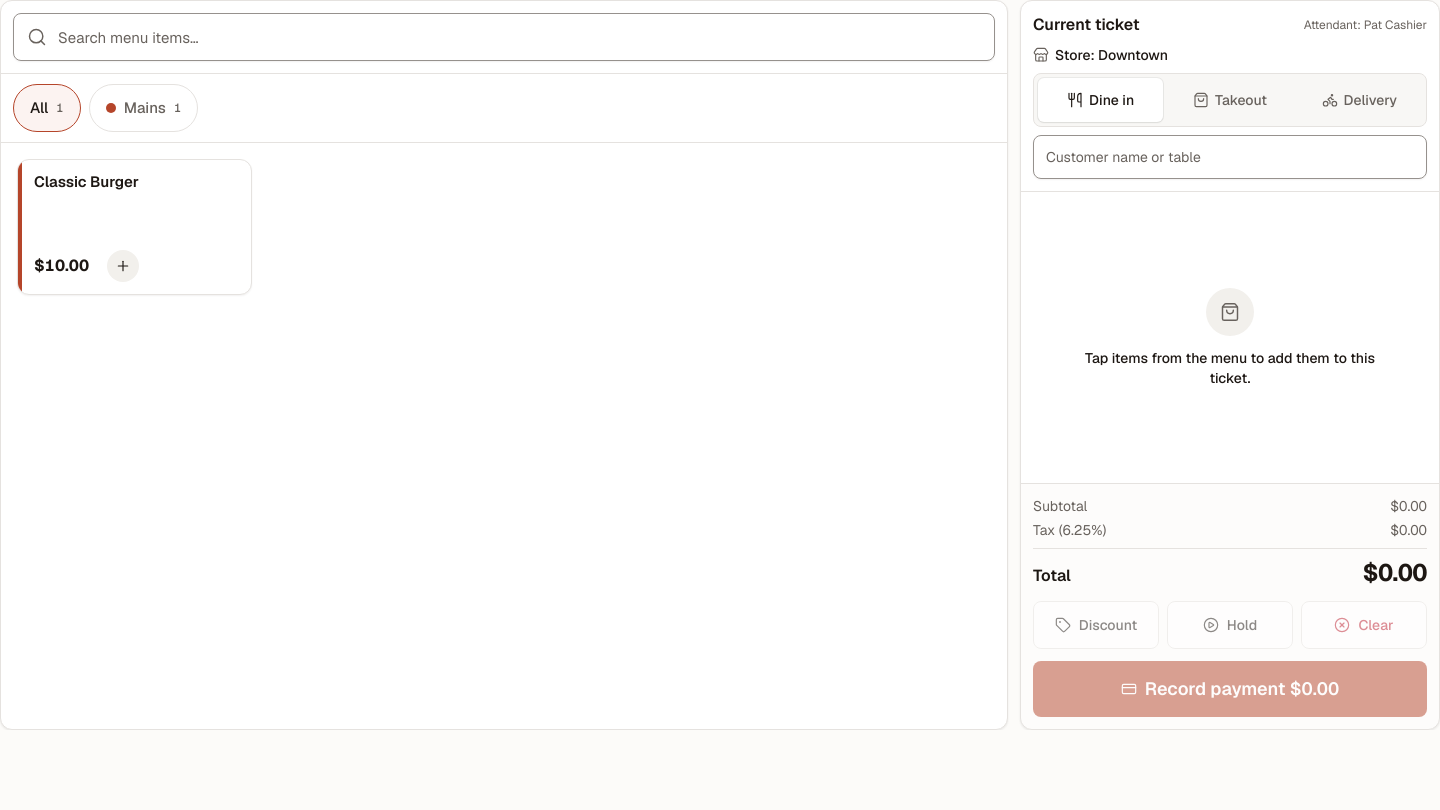
Test case: manual resolution of a pending sale (0032) › without the permission: no way to close it, only an explanation
Click the button with aria-label "Add Classic Burger,": (134, 227) [17,159,252,295]
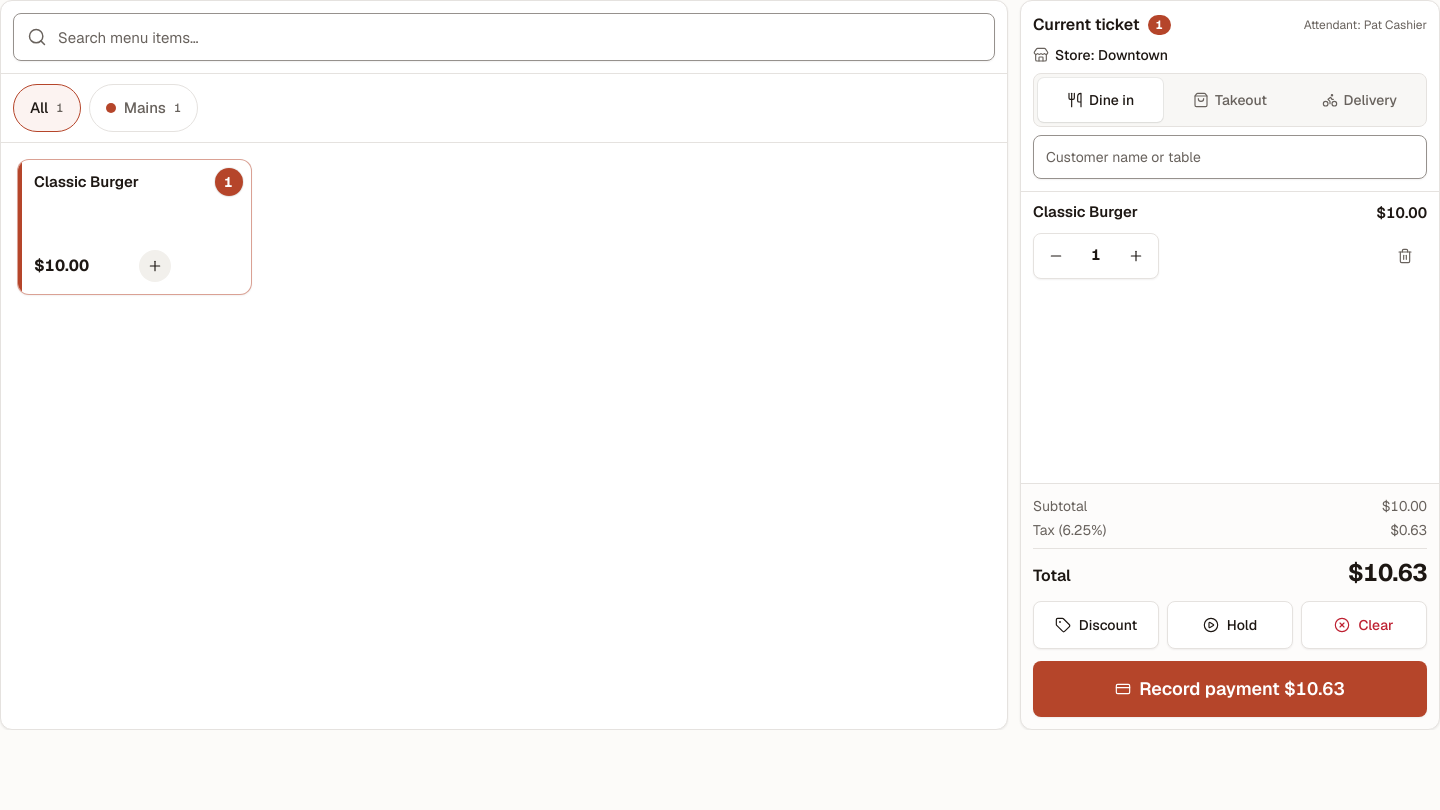
Click the button "Record payment $10.63": (1230, 689) [1033,661,1427,717]
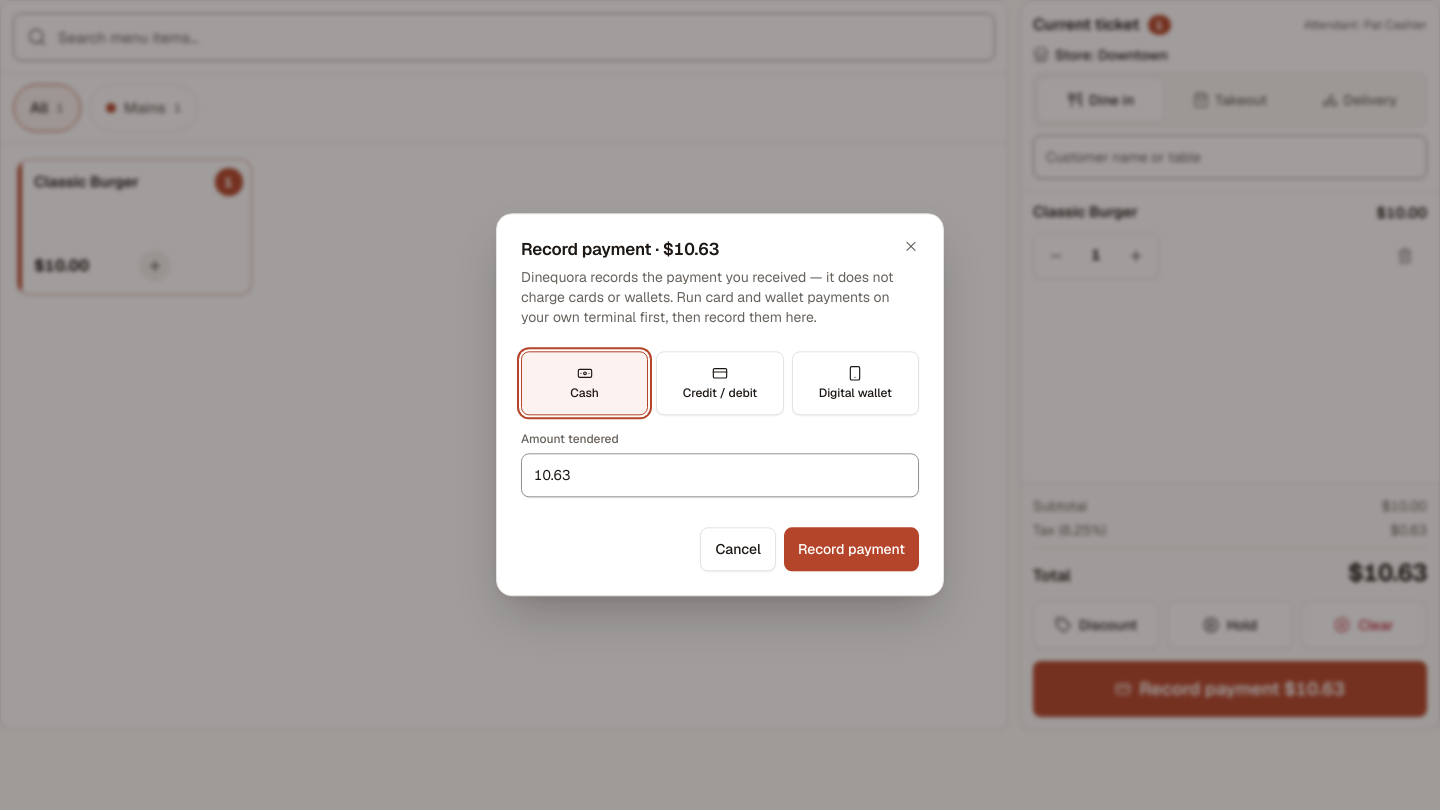
Click the button "Record payment": (852, 550) [784,528,919,572]
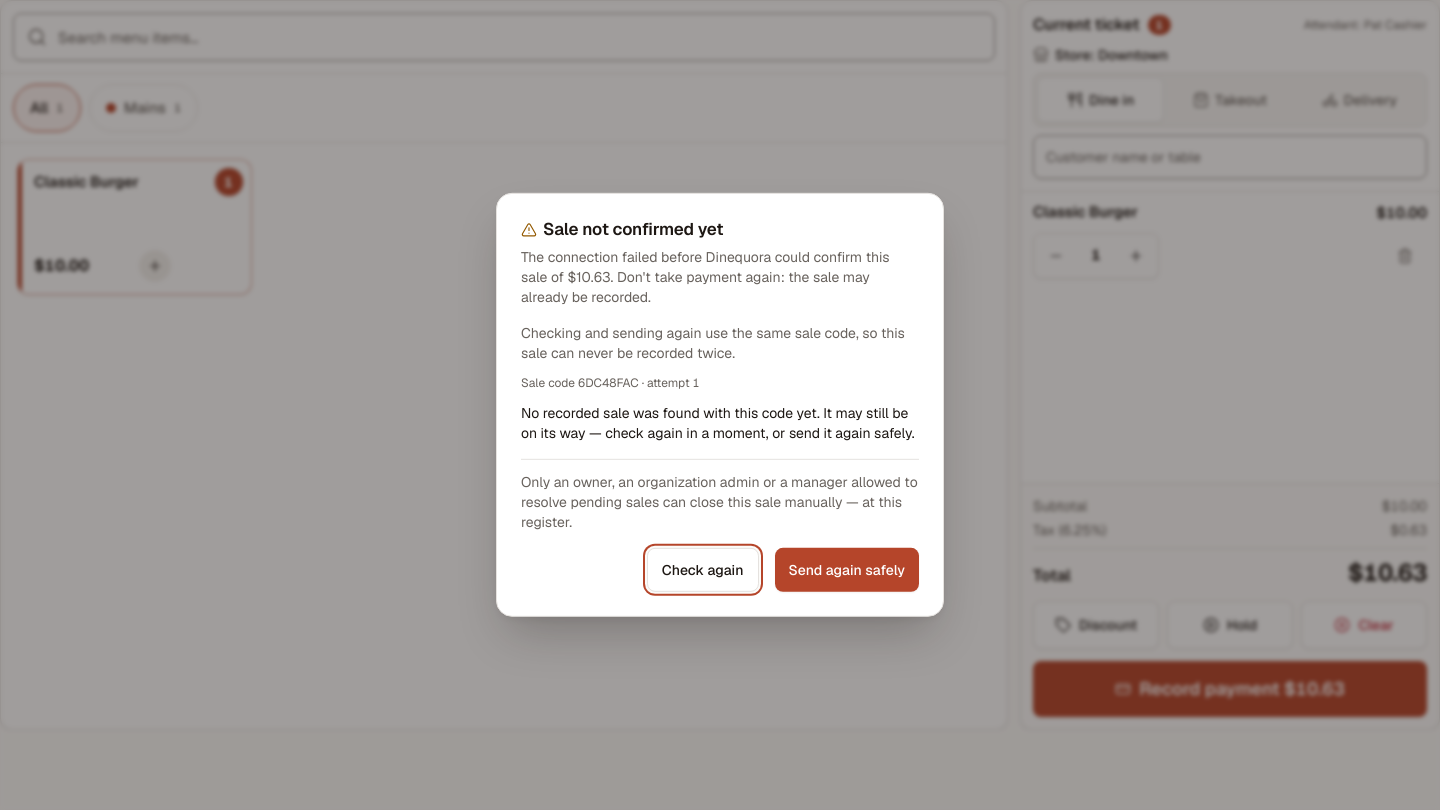
Now the text "No recorded sale was found with this code yet" is shown, box [521,404,914,442]
Now the text "Only an owner, an organization admin or a manager allowed" is shown, box [521,473,918,531]
